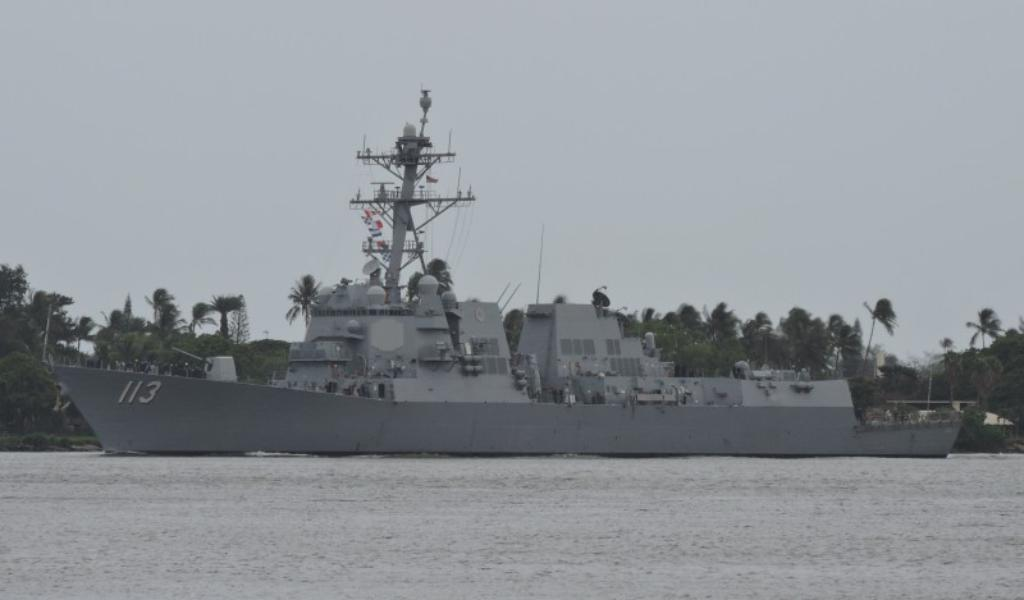Warship: (44, 63, 980, 464)
